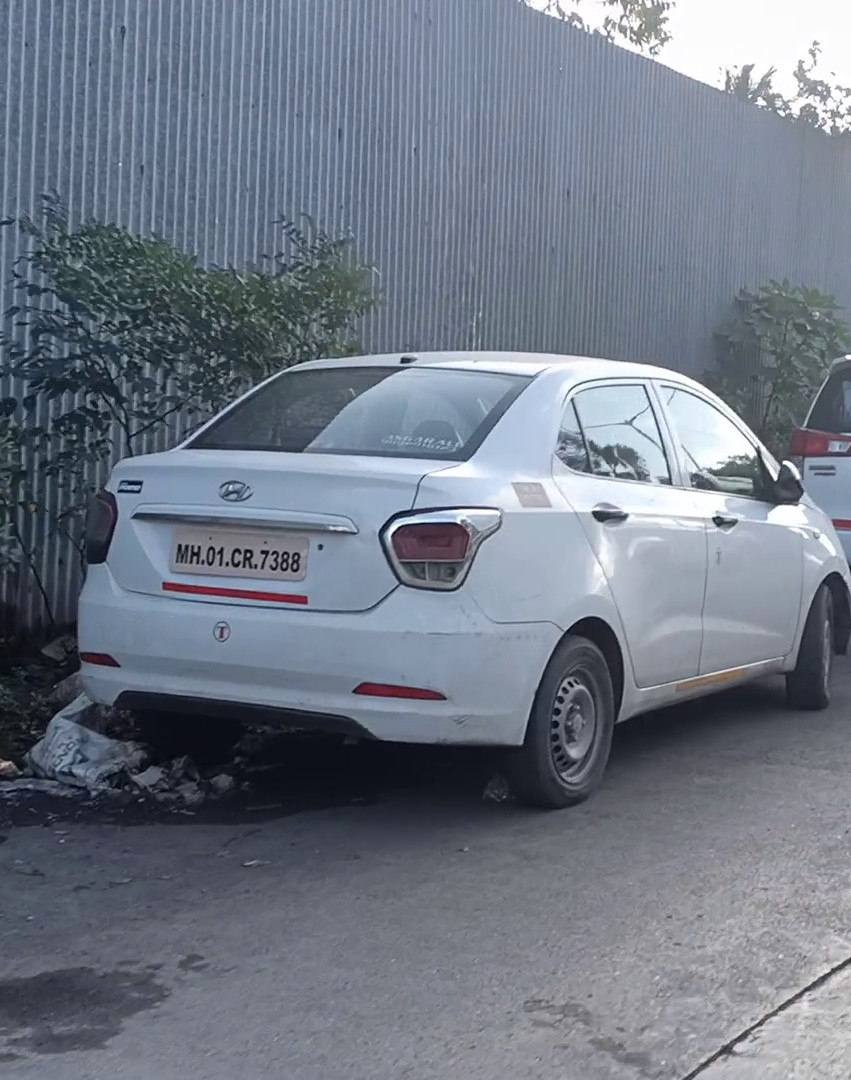MH01CR7388: (167, 525, 305, 584)
